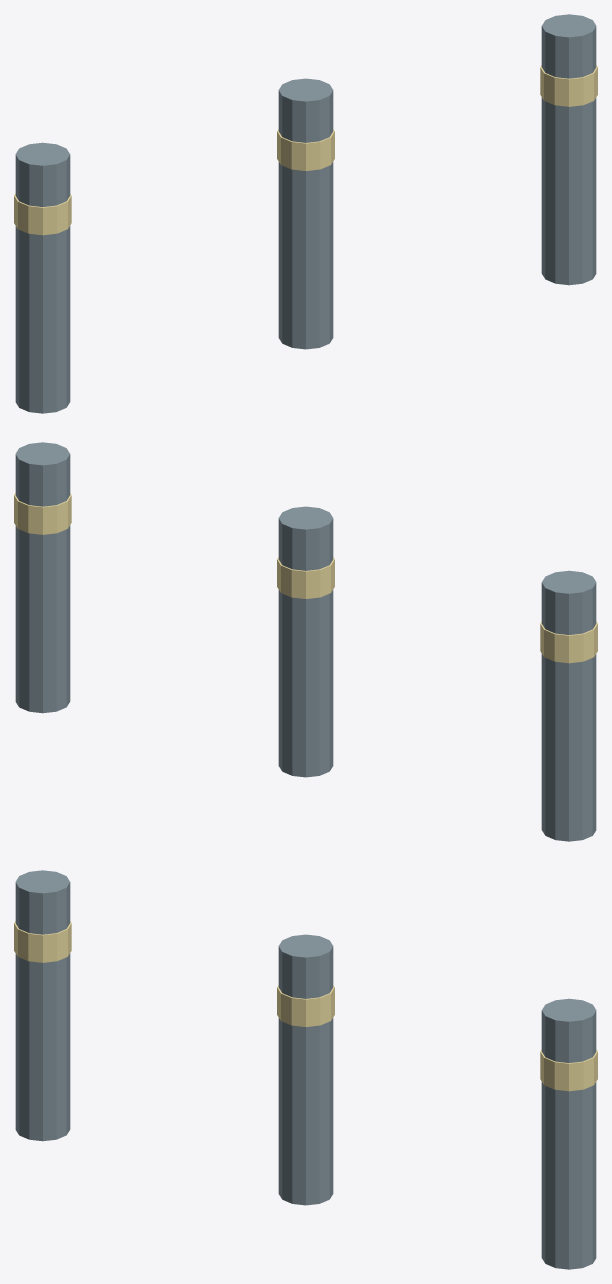
The model's file is bollard_row.glb.
3 views of the same model, one above another, from view 1: azimuth 30°, elevation 25°; view 2: azimuth 150°, elevation 25°; view 3: azimuth 330°, elevation 25° (orthographic).
Visible parts, largest first — view 1: bollard_row_002, bollard_row_004, bollard_row_000, bollard_row_005, bollard_row_003, bollard_row_001; view 2: bollard_row_002, bollard_row_004, bollard_row_000, bollard_row_005, bollard_row_003, bollard_row_001; view 3: bollard_row_000, bollard_row_002, bollard_row_004, bollard_row_001, bollard_row_003, bollard_row_005.
Boxes of the visible parts, x1,y1,x2,y2 form: bollard_row_002: (278,78,333,349); bollard_row_004: (541,14,596,285); bollard_row_000: (15,142,70,413); bollard_row_005: (540,65,597,106); bollard_row_003: (277,129,334,170); bollard_row_001: (14,193,71,235); bollard_row_002: (278,506,333,777); bollard_row_004: (15,442,70,713); bollard_row_000: (541,570,596,841); bollard_row_005: (14,493,71,534); bollard_row_003: (277,557,334,598); bollard_row_001: (540,621,597,663); bollard_row_000: (15,870,70,1141); bollard_row_002: (278,934,333,1205); bollard_row_004: (541,998,596,1269); bollard_row_001: (14,921,71,962); bollard_row_003: (277,985,334,1026); bollard_row_005: (540,1049,597,1091).
Bounding box in the file's own units: 2.19 × 0.9 × 0.19.
